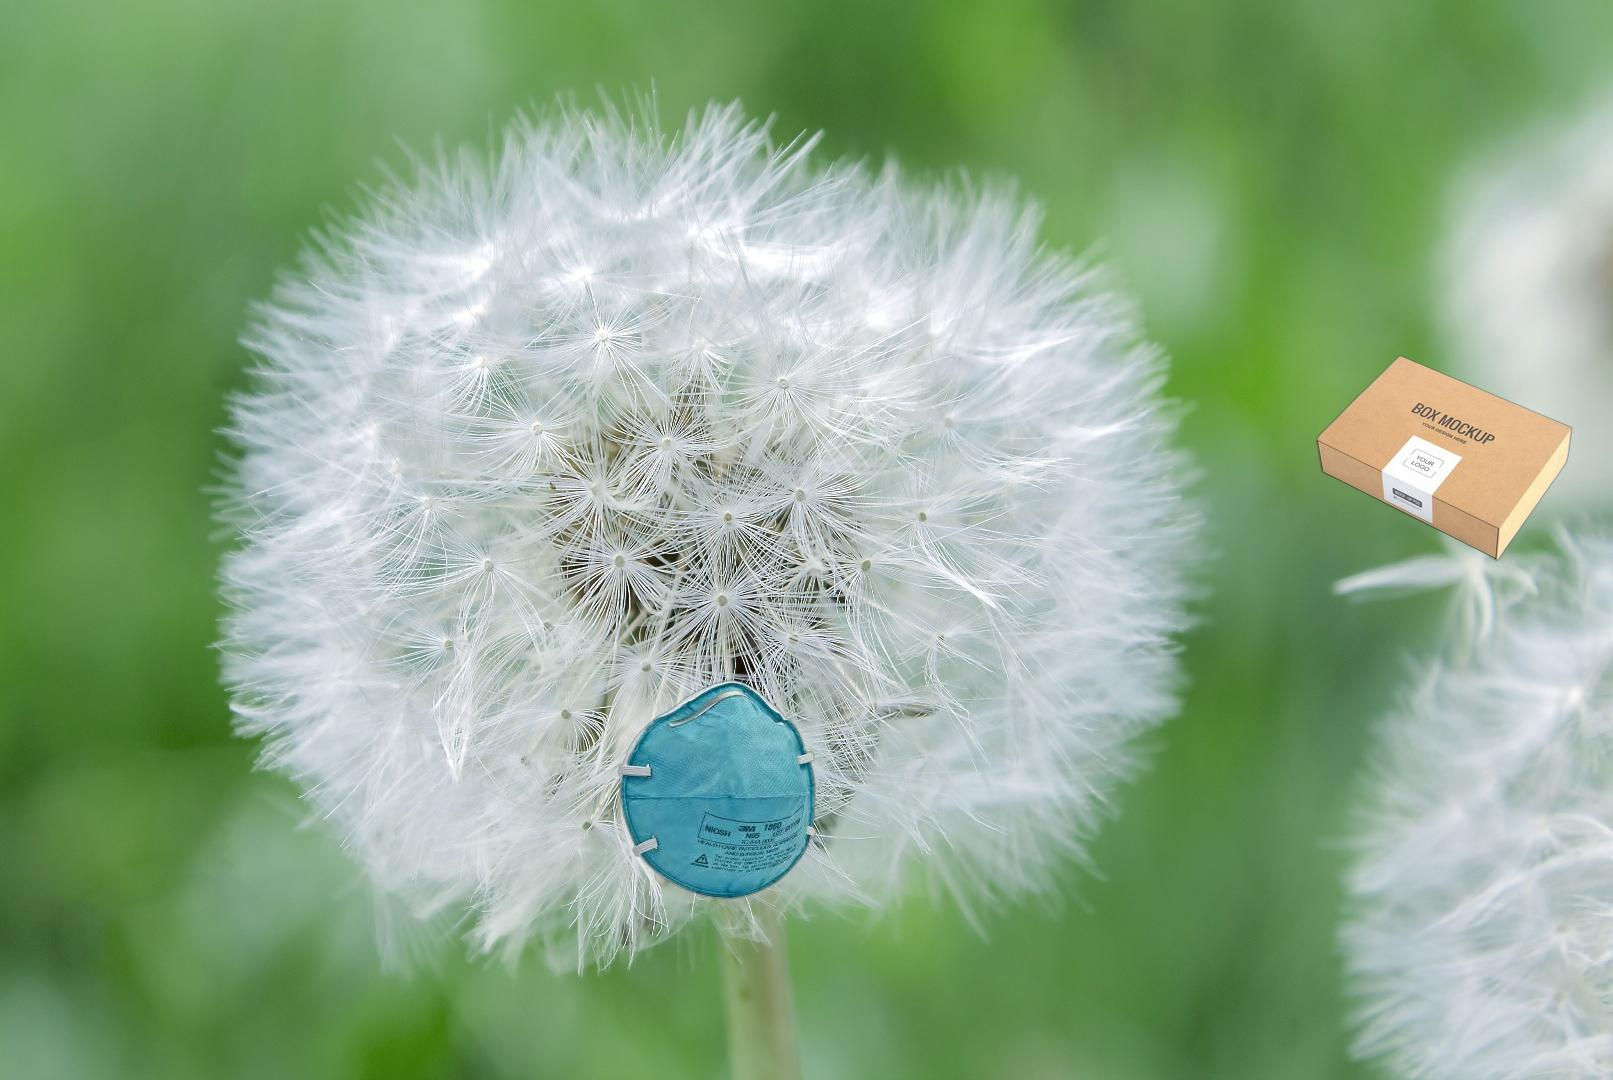trash: (615, 677, 819, 902)
trashbox-cardboard: (1314, 354, 1574, 562)
